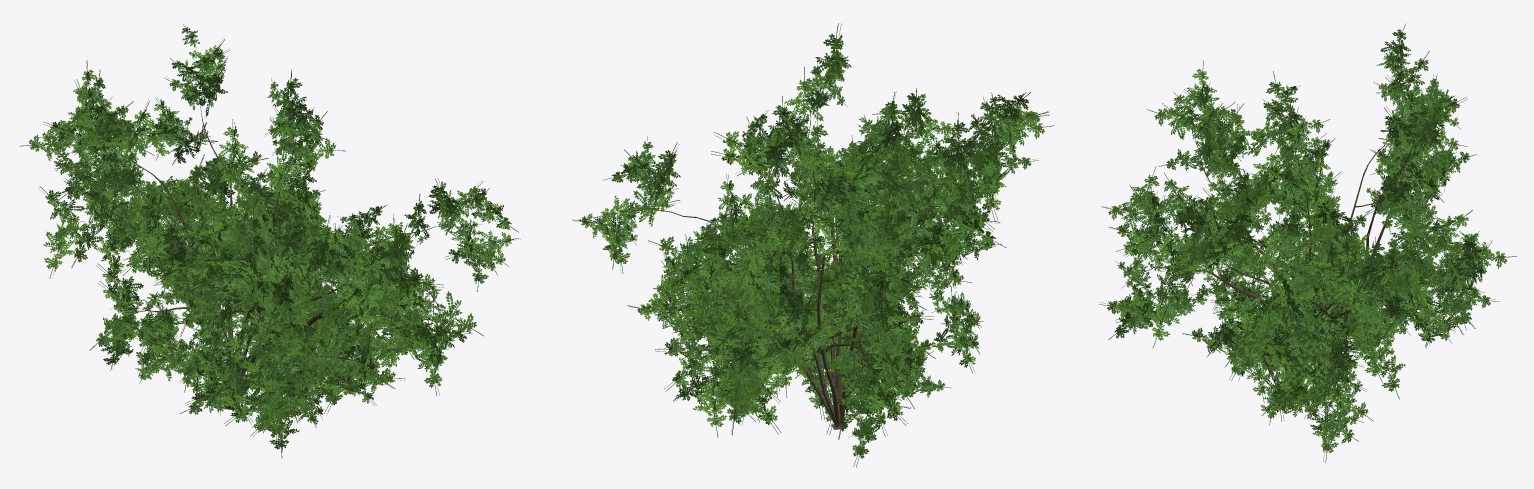
3 views of the same model, side by side, from view 1: azimuth 30°, elevation 25°; view 2: azimuth 150°, elevation 25°; view 3: azimuth 270°, elevation 25° (orthographic). The views are drawn at different scales.
Parts seen in each view (by area): view 1: branches, branches.001; view 2: branches, branches.001; view 3: branches, branches.001.
Part boxes in pixels (left/top/right/bottom): branches: left=19, top=24, right=520, bottom=457; branches.001: left=64, top=52, right=480, bottom=409; branches: left=573, top=23, right=1054, bottom=467; branches.001: left=622, top=78, right=1006, bottom=429; branches: left=1099, top=24, right=1516, bottom=462; branches.001: left=1140, top=97, right=1467, bottom=420.
Bounding box in the file's own units: 1.78 × 1.6 × 1.73.
Materials: 2 (2 with a texture image).
